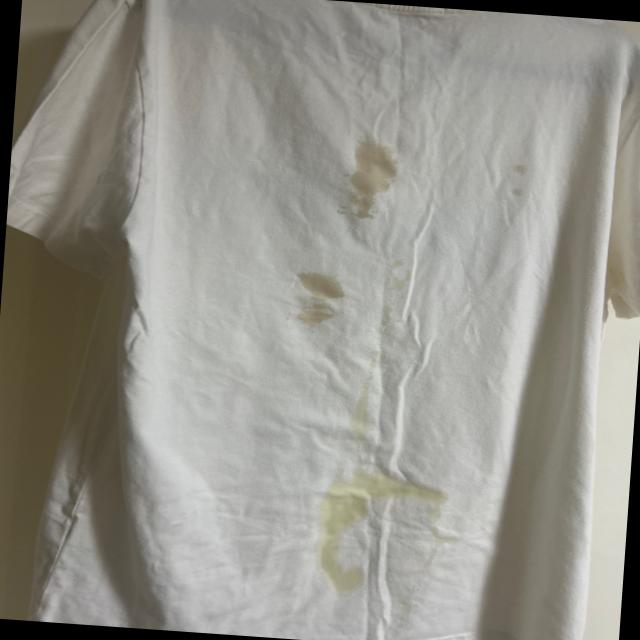stain: (278, 451, 467, 606), (336, 137, 400, 226), (288, 256, 352, 332), (493, 152, 558, 218), (336, 368, 386, 444)
